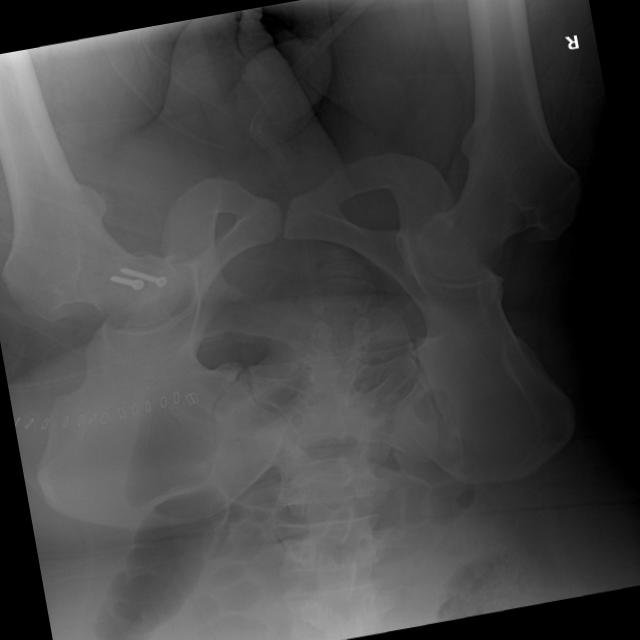normal-left: (0, 89, 178, 327)
normal-right: (419, 23, 578, 278)
